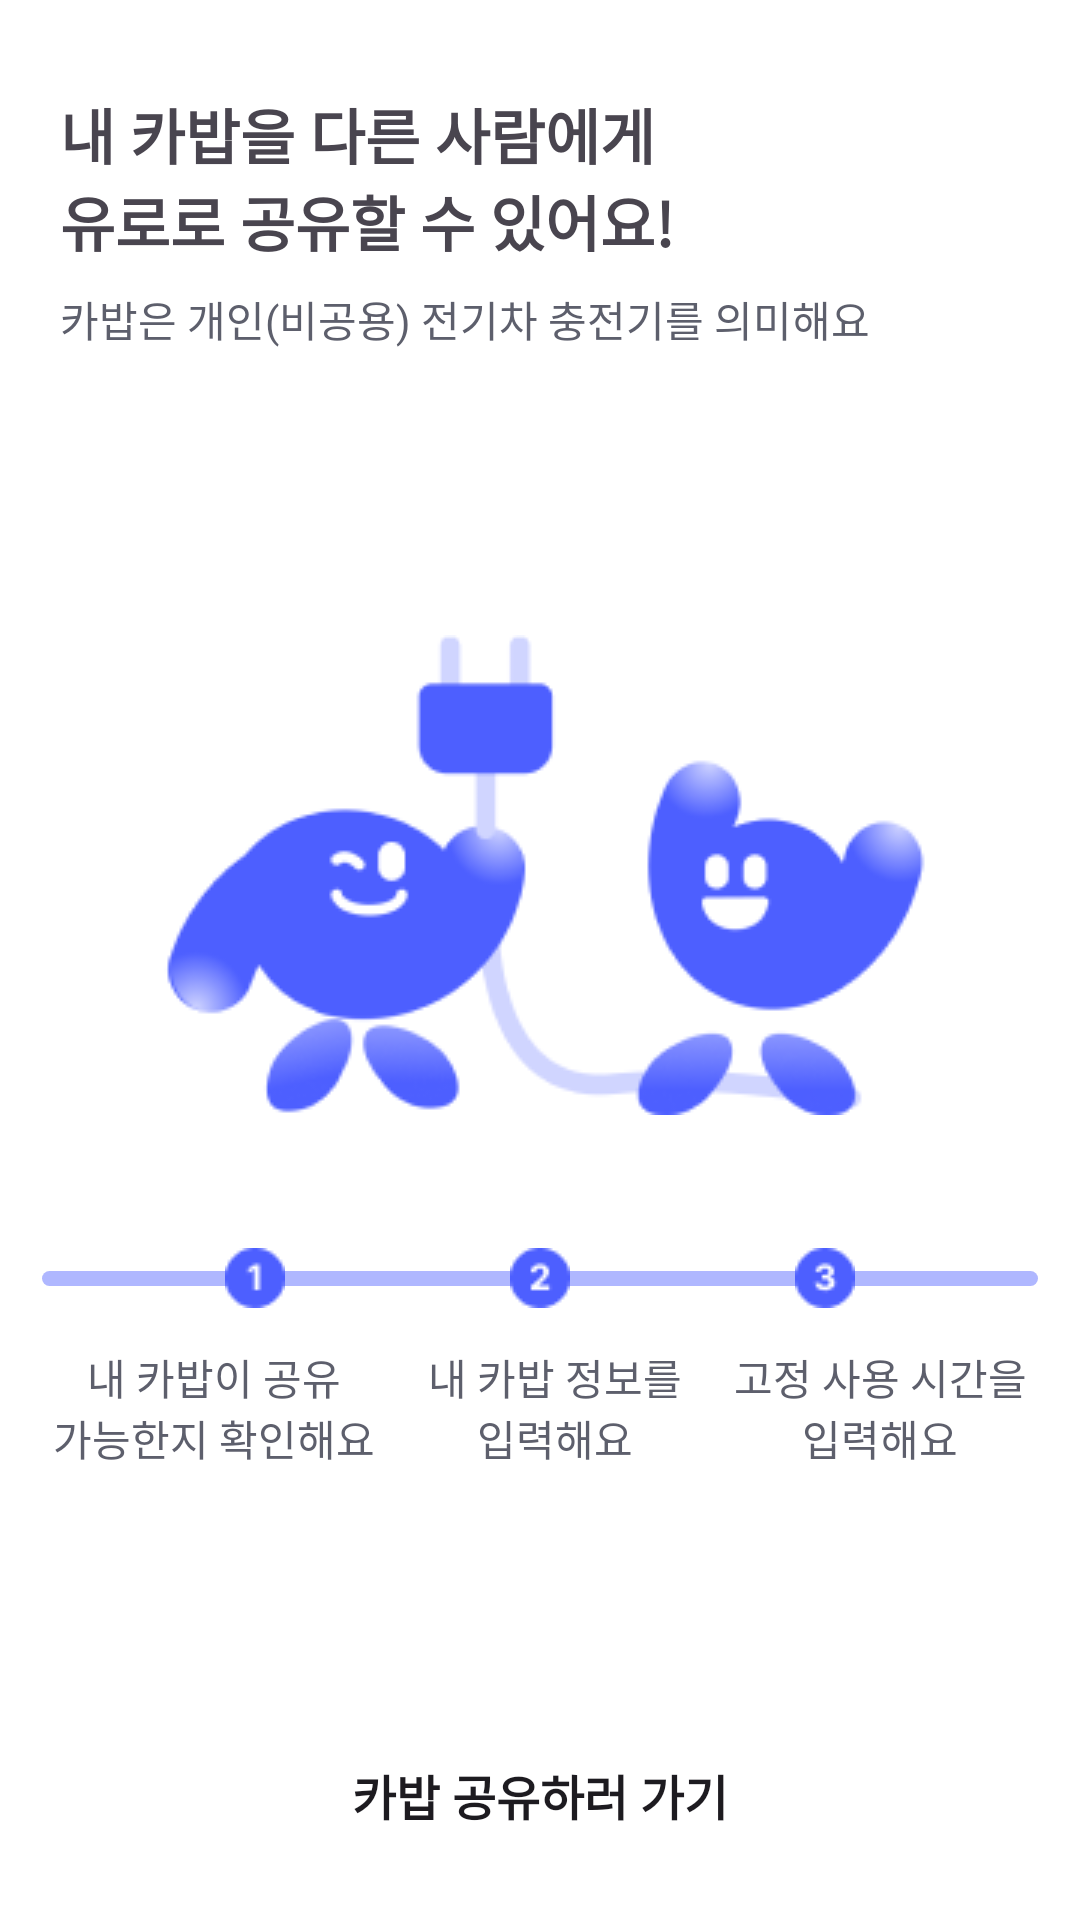

Where icons sit on this 1080×1920 app screen, as (x1, y1, x2, y2):
1번 단계: (225, 1248, 285, 1308)
2번 단계: (510, 1248, 570, 1308)
3번 단계: (795, 1248, 855, 1308)
